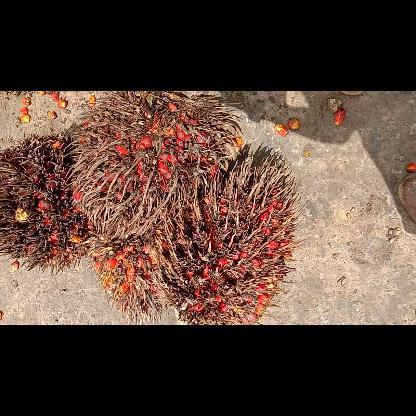Terlalu masak: (149, 144, 309, 324), (60, 91, 248, 243), (0, 131, 102, 279), (84, 228, 176, 324)
